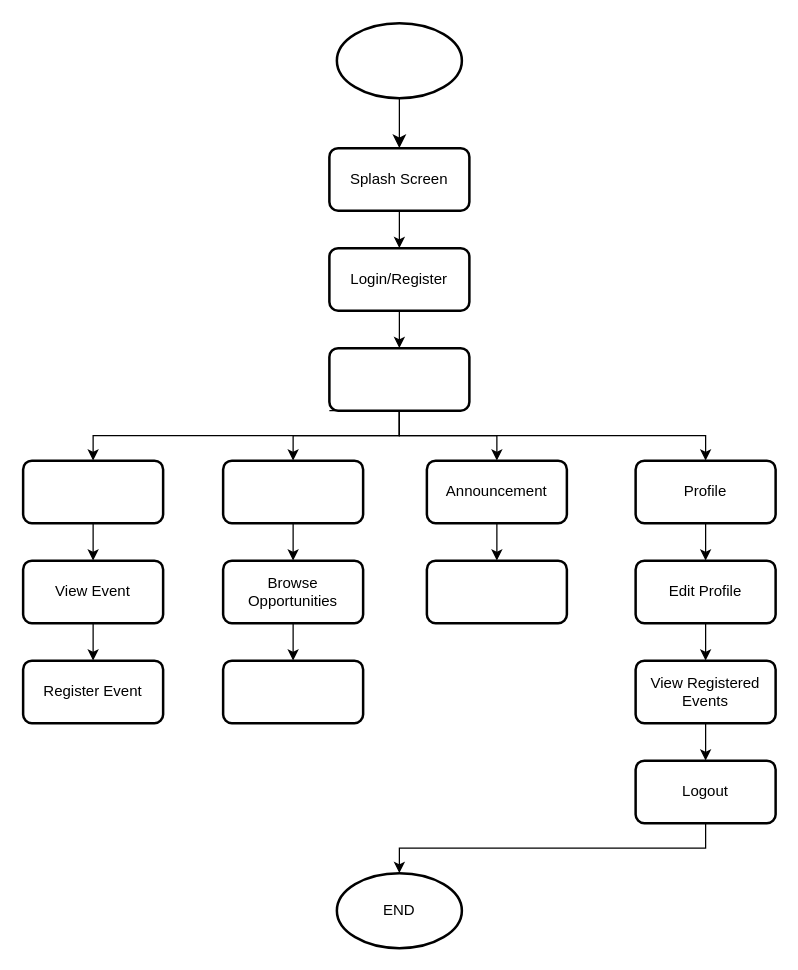
The diagram is 798 pixels wide and 970 high, and some of its shapes have lost their labels. Here are the shapes that lost their labels. From the top down, the centre of each, then its label:
point (398, 60): START
point (399, 378): Dashboard
point (92, 491): Event
point (292, 491): Volunteer
point (496, 591): View Announcements
point (292, 691): Join Program
